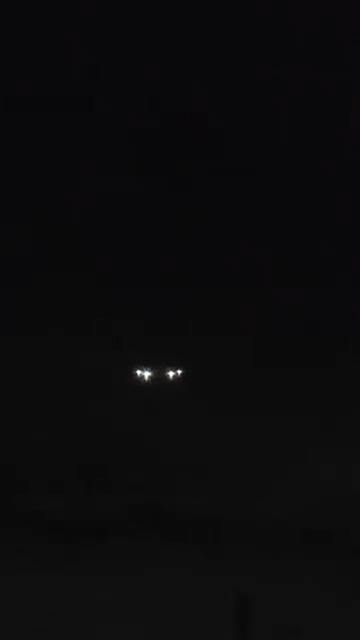Plane: (109, 332, 202, 411)
